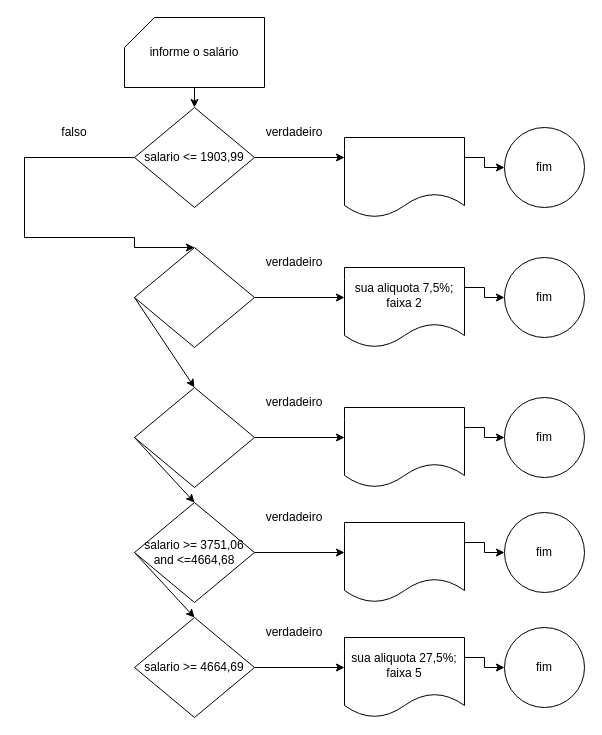
Some shapes in this 602 by 735 pixel diagram are drawn without their labels. Each missing label, with the centre of its shape:
salario >= 1903,99 and <=2826,65: (194,297)
salario >= 2826,66 and <=3751,05: (194,437)
sua aliquota 15%; faixa 3: (404,447)
sua aliquota 22,5%; faixa 4: (404,562)
você esta isento faixa 1: (404,177)
